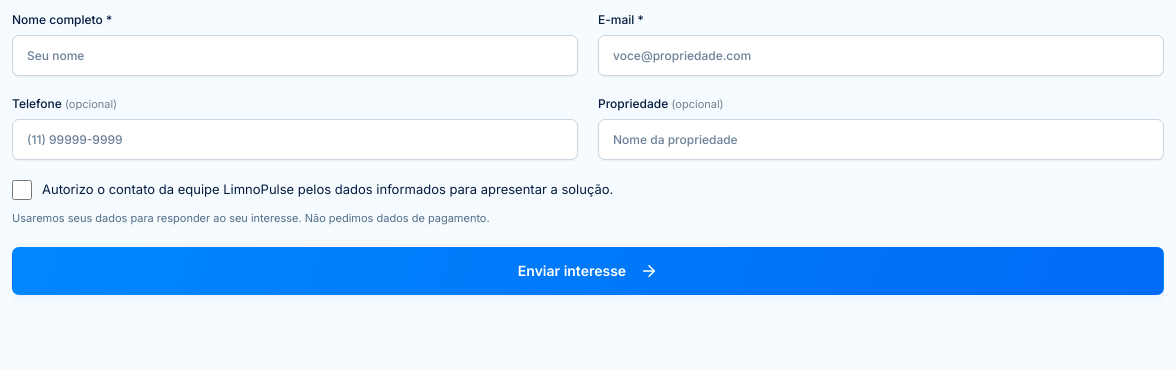
Test: preserves fields when submission fails
Type "Maria Silva" into the field labelled "Nome completo *" at [295, 56], box left=12, top=35, right=578, bottom=76
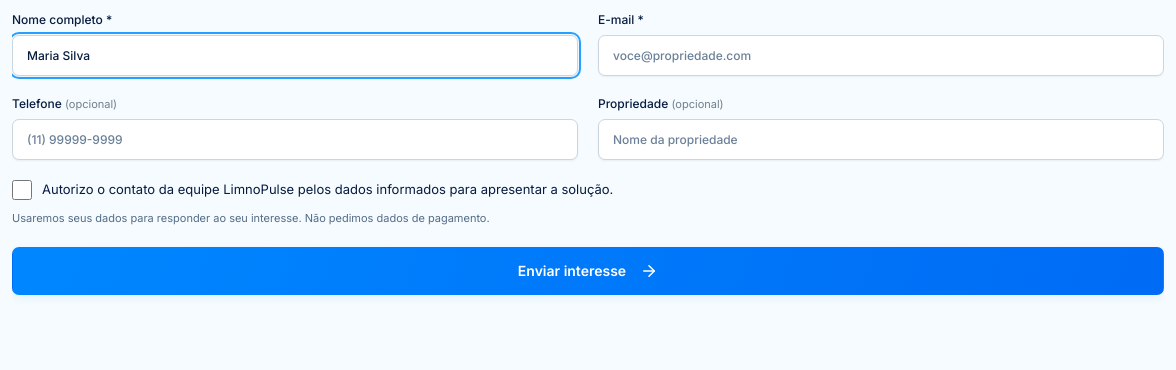
Type "maria@example.com" into the field labelled "E-mail *" at [881, 56], box left=598, top=35, right=1164, bottom=76
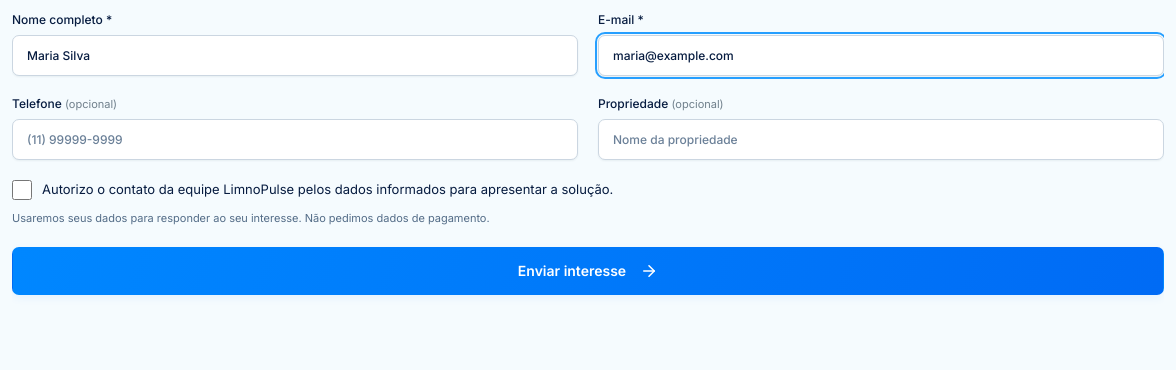
Click the checkbox labelled "Autorizo" at [22, 190], box left=12, top=180, right=32, bottom=200
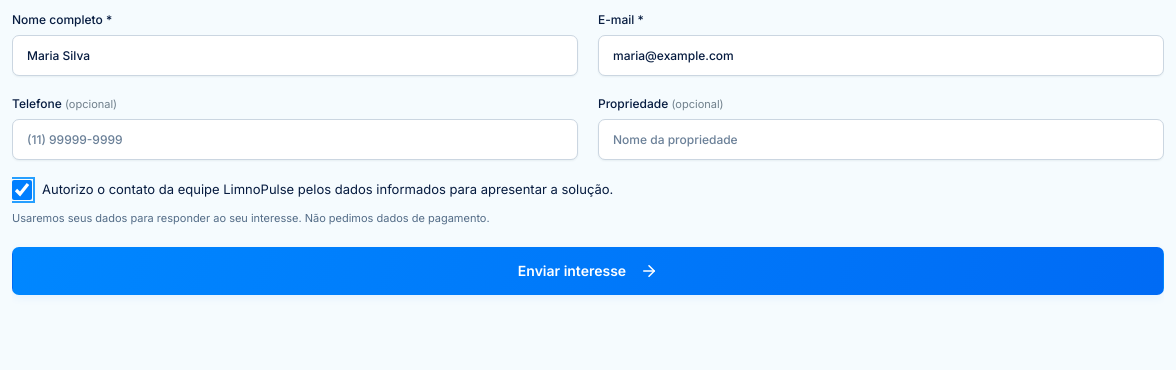
Click the button "Enviar interesse" at [588, 270], box left=12, top=246, right=1164, bottom=294
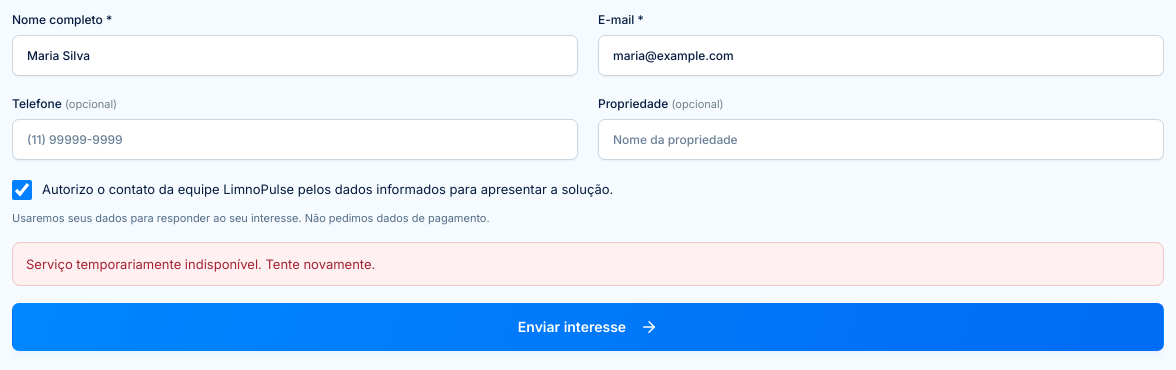
expect the message shows "temporariamente indisponível": met, box left=26, top=256, right=375, bottom=272
